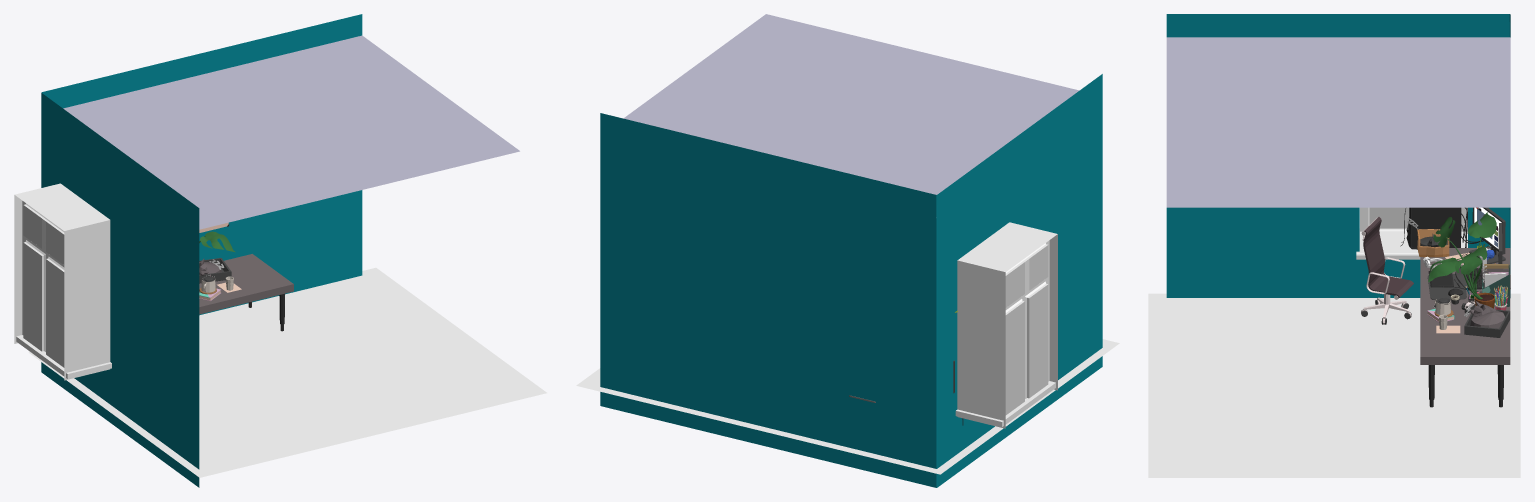
The model's file is Room-transformed.glb.
The picture shows the model from 3 angles, left to right: view 1: azimuth 30°, elevation 25°; view 2: azimuth 150°, elevation 25°; view 3: azimuth 270°, elevation 25°; orthographic projection. The views are drawn at different scales.
Visible parts, largest first — view 1: Wall_blue_54, Wall_window.001_60, floor_55, Wall_window_56, window.001_59, table.001_38, window_58, Cube.004_57, Cylinder.010_104; view 2: Wall_blue_54, Wall_window.001_60, Wall_window_56, window.001_59, floor_55, window_58, Cube.004_57; view 3: floor_55, Wall_window.001_60, Wall_blue_54, table.001_38, Cube.015_9, monstera.002_43, Block_40, Cylinder.010_104, Cube.004_57, Monitor_1.001_34, window.001_59, Cube.003_99 (+4 smaller).
Boxes of the visible parts, bbox=[...] form: Wall_blue_54: bbox=[41, 14, 362, 487]; Wall_window.001_60: bbox=[63, 35, 519, 229]; floor_55: bbox=[28, 267, 546, 477]; Wall_window_56: bbox=[14, 183, 110, 380]; window.001_59: bbox=[23, 205, 64, 367]; table.001_38: bbox=[199, 254, 293, 314]; window_58: bbox=[19, 198, 72, 379]; Cube.004_57: bbox=[16, 335, 111, 378]; Cylinder.010_104: bbox=[199, 258, 231, 283]; Wall_blue_54: bbox=[600, 74, 1102, 487]; Wall_window.001_60: bbox=[623, 14, 1079, 194]; Wall_window_56: bbox=[957, 222, 1057, 428]; window.001_59: bbox=[1005, 245, 1048, 415]; floor_55: bbox=[576, 339, 1119, 474]; window_58: bbox=[997, 232, 1053, 427]; Cube.004_57: bbox=[955, 381, 1055, 427]; floor_55: bbox=[1148, 293, 1520, 477]; Wall_window.001_60: bbox=[1166, 37, 1510, 207]; Wall_blue_54: bbox=[1166, 14, 1510, 297]; table.001_38: bbox=[1420, 248, 1510, 364]; Cube.015_9: bbox=[1361, 217, 1413, 324]; monstera.002_43: bbox=[1428, 212, 1496, 308]; Block_40: bbox=[1406, 207, 1461, 249]; Cylinder.010_104: bbox=[1464, 301, 1510, 337]; Cube.004_57: bbox=[1356, 228, 1467, 259]; Monitor_1.001_34: bbox=[1469, 207, 1505, 263]; window.001_59: bbox=[1369, 207, 1409, 228]; Cube.003_99: bbox=[1417, 229, 1449, 257].
Size of the model in its own units: 7.49 by 5.19 by 5.76.
